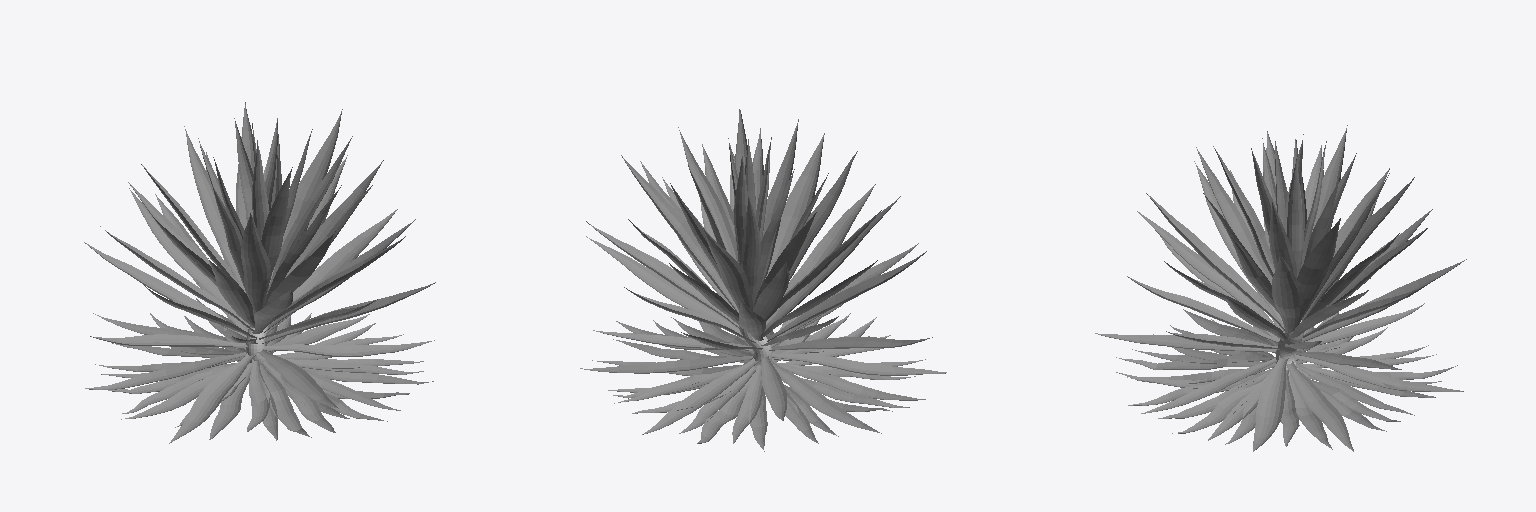
File: var2.obj
3 views of the same model, side by side, from view 1: azimuth 30°, elevation 25°; view 2: azimuth 150°, elevation 25°; view 3: azimuth 270°, elevation 25° (orthographic).
Parts seen in each view (by area): view 1: var2; view 2: var2; view 3: var2.
Part boxes in pixels (x1,y1,x2,y2): var2: (84,102,435,443); var2: (580,109,946,451); var2: (1095,125,1466,451).
Bounding box in the file's own units: 2.65 × 1.97 × 2.59.